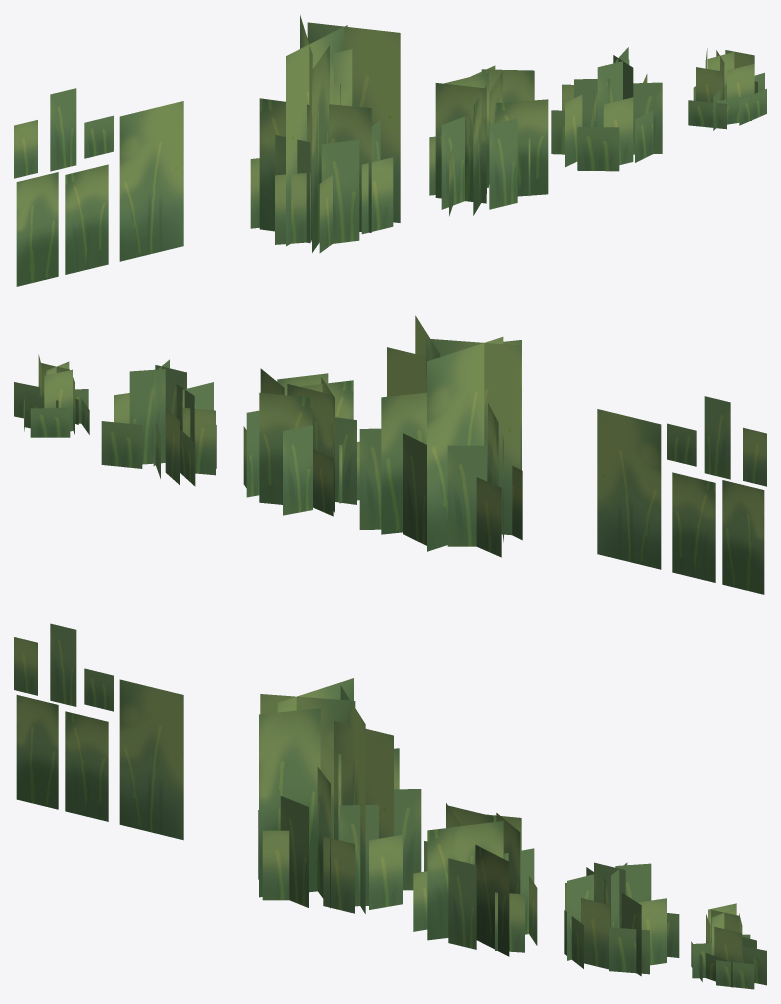
Rendered from pine_tall_03.glb.
3 renders of one model, top to bottom at view 1: azimuth 30°, elevation 25°; view 2: azimuth 150°, elevation 25°; view 3: azimuth 330°, elevation 25°, orthographic.
Parts seen in each view (by area): view 1: pine_tall_03; view 2: pine_tall_03; view 3: pine_tall_03.
Part boxes in pixels (x1,y1,x2,y2): pine_tall_03: (14, 15, 766, 286); pine_tall_03: (14, 315, 766, 594); pine_tall_03: (14, 623, 766, 989).
Bounding box in the file's own units: 17.5 × 4.5 × 2.29.
Materials: 1 (1 with a texture image).
